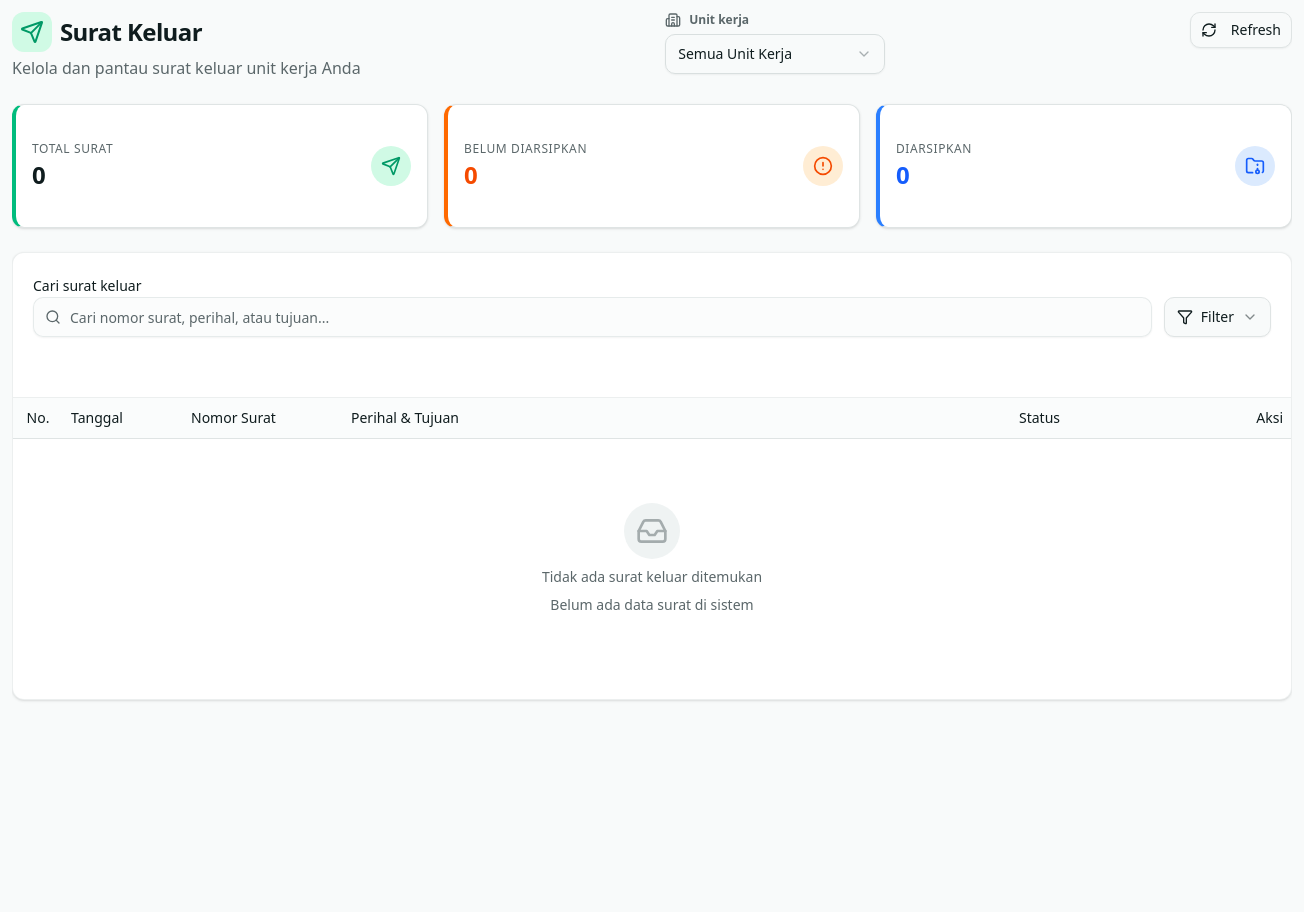
Test: visible search and associated filter labels › labels the real keluar controls
The image size is (1304, 912).
Expected: the text "Cari surat keluar" is shown, x1=33 y1=276 x2=141 y2=295
Expected: the dropdown labelled "Unit Kerja" is shown, x1=665 y1=34 x2=885 y2=74
Click the button "Filter": (1217, 317) x1=1164 y1=297 x2=1271 y2=337
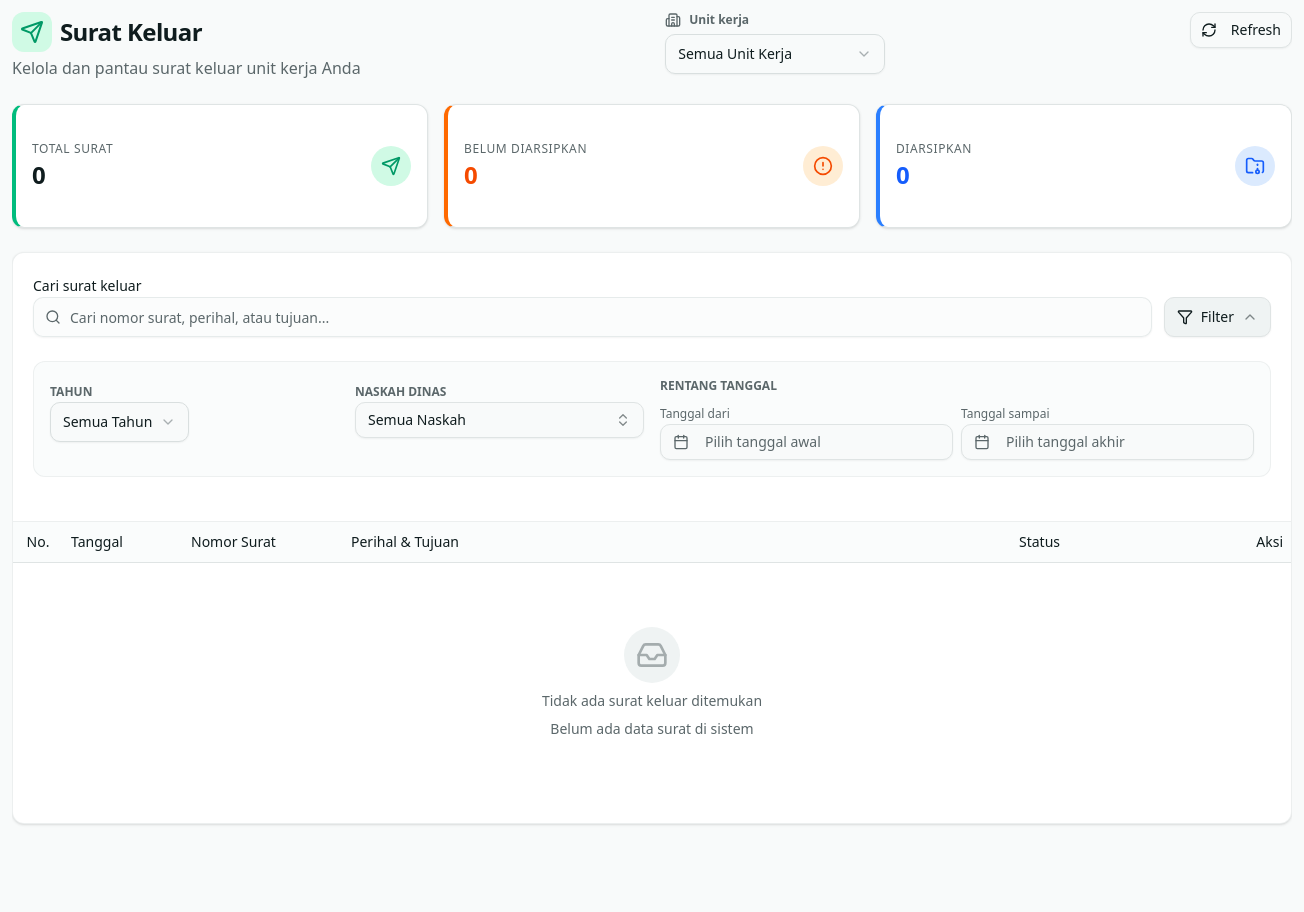
Now the text "Tahun" is shown, box x1=50 y1=383 x2=92 y2=400
Now the text "Naskah Dinas" is shown, box x1=355 y1=383 x2=446 y2=400
